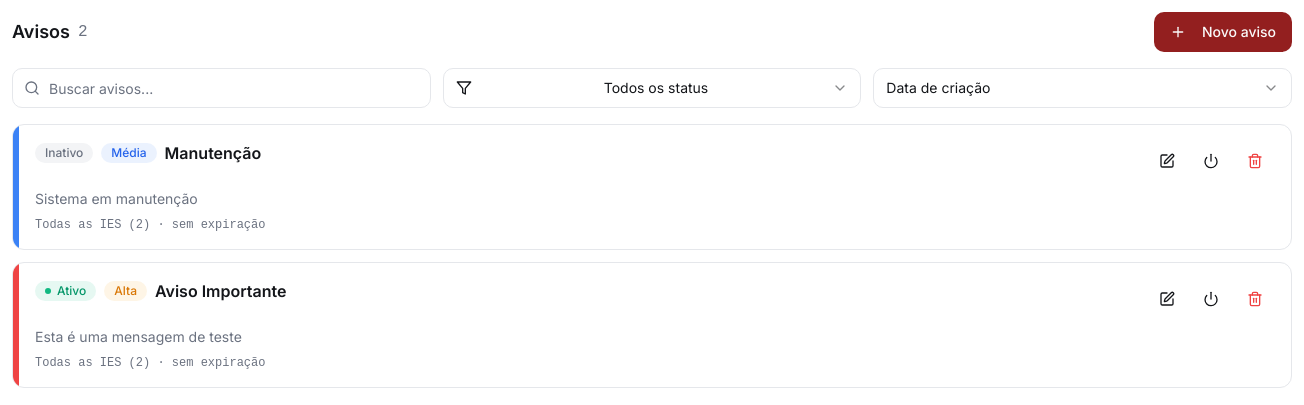
Test: AnnouncementsTab › should filter announcements by search term
The width and height of the screenshot is (1304, 405).
Type "Importante" into the field with placeholder "Buscar avisos..." at (221, 88), box [12,68,431,108]
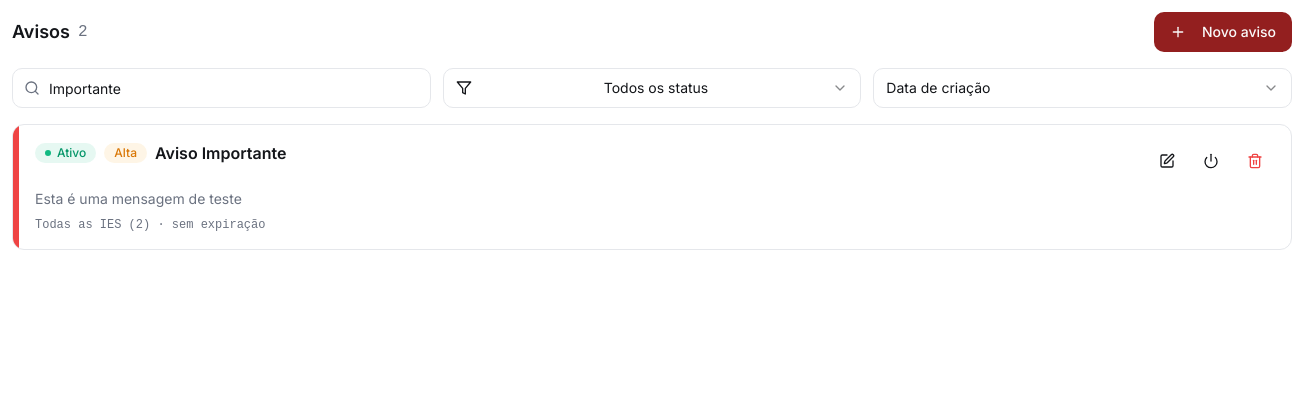
Expected: the heading "Aviso Importante" is shown, [155,141,287,165]
Expected: the heading "Manutenção" is gone
